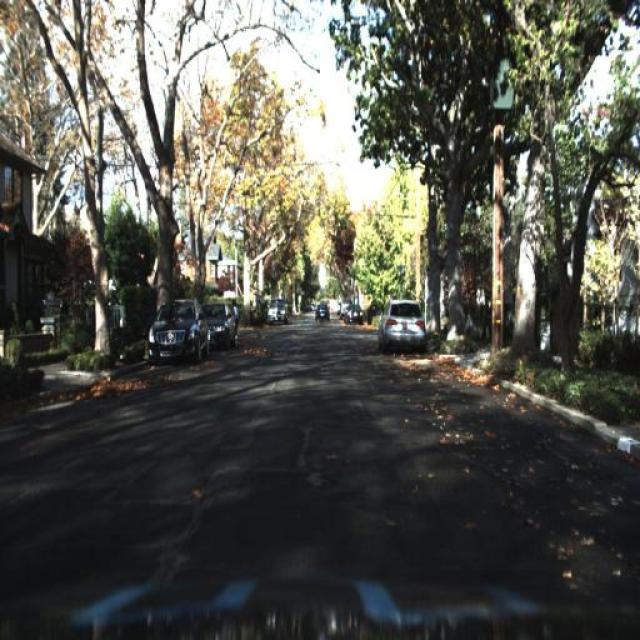car: (142, 286, 210, 372), (371, 290, 431, 361), (206, 294, 238, 360), (198, 300, 236, 344), (262, 301, 288, 328), (343, 300, 366, 330), (310, 300, 332, 326), (344, 304, 364, 328)
